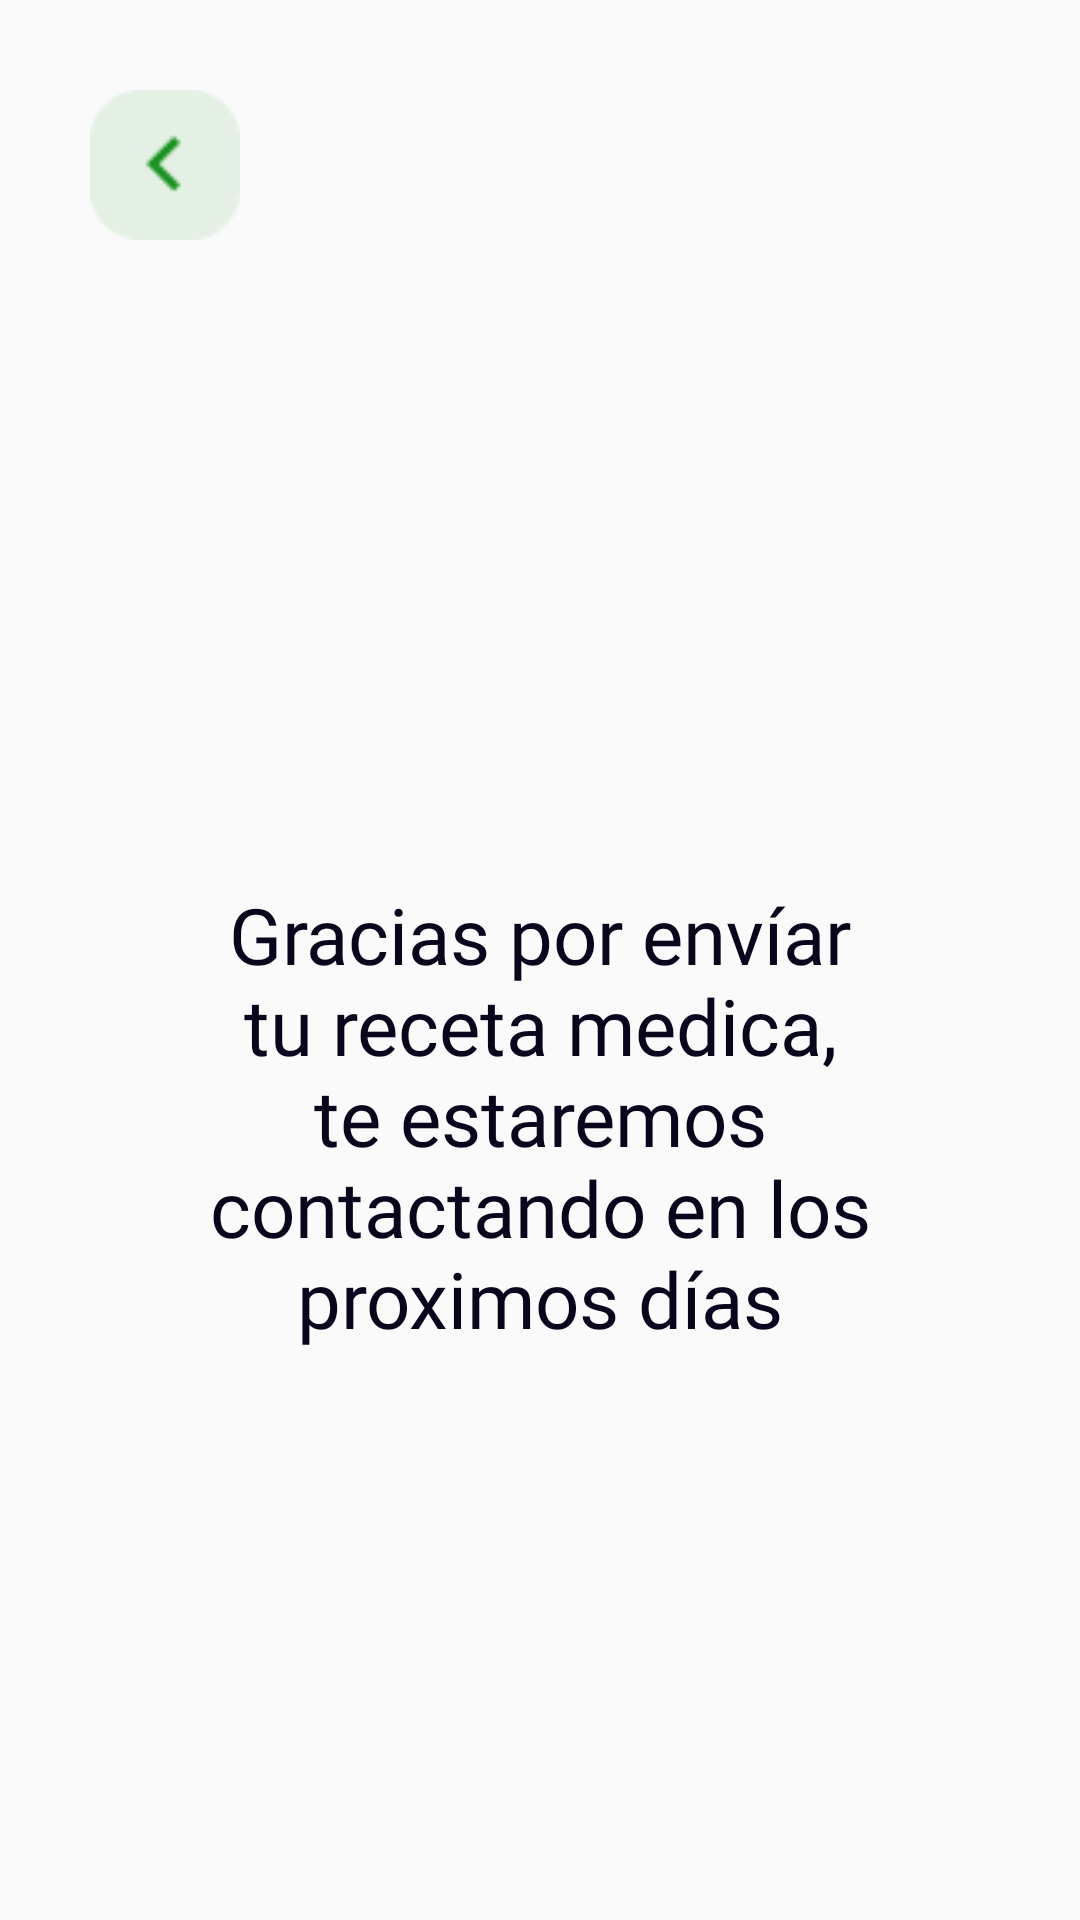

Where icons sit on this 1080px×1920px app screen, as (x1, y1, x2, y2):
iconback: (145, 135, 182, 194)
